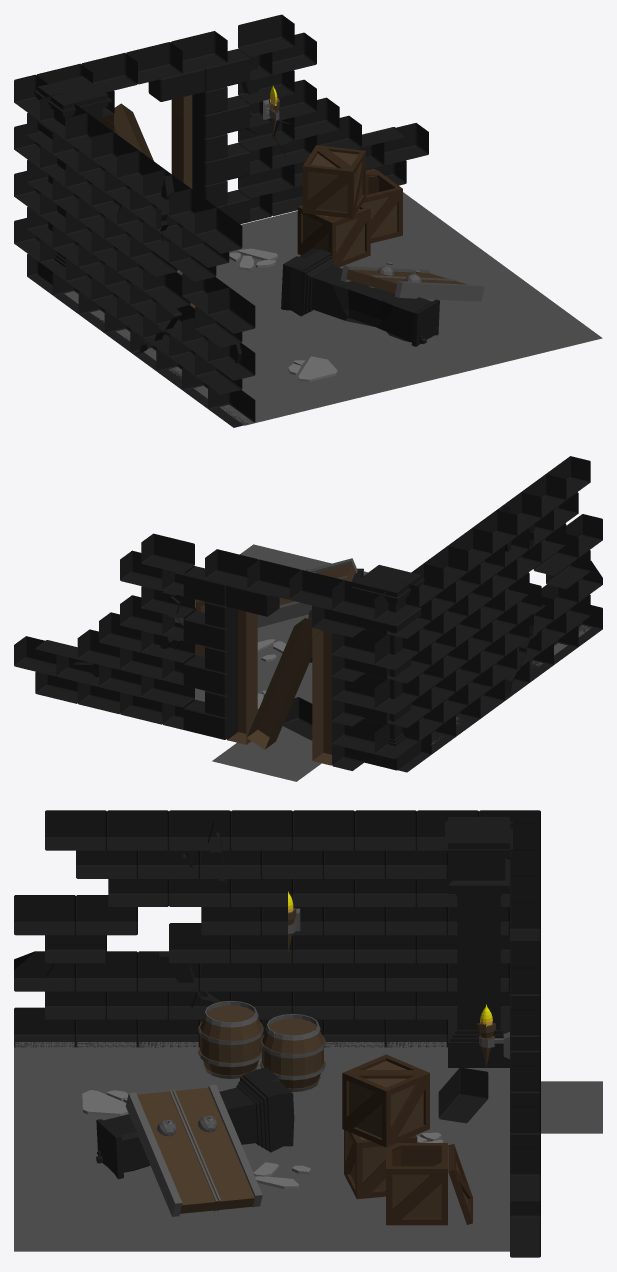
Rendered from Small_Dungeon.glb.
3 views of the same model, one above another, from view 1: azimuth 30°, elevation 25°; view 2: azimuth 150°, elevation 25°; view 3: azimuth 270°, elevation 25° (orthographic). The views are drawn at different scales.
Parts seen in each view (by area): view 1: Wall_Broken_2.004, Wall.053, Door_Wall_Broken.003, Wall_Broken_1.005, PIllar.026, Plane.447, Plane.355, Plane.450, Crate.007, Plane.434, Plane.369, Plane.433 (+13 smaller); view 2: Door_Wall_Broken.003, Wall.053, Wall_Broken_1.005, Wall_Broken_2.004, PIllar.028, Plane.327, Door.004, Plane.447, Plane.437, Plane.436; view 3: Wall_Broken_2.004, Wall.053, PIllar.028, Door.004, Wall_Broken_1.005, PIllar.026, Crate.007, Plane.434, Plane.447, Plane.372, Create Open.004, Door_Wall_Broken.003 (+19 smaller).
Boxes of the visible parts, bbox=[...] form: Wall_Broken_2.004: bbox=[117, 150, 255, 427]; Wall.053: bbox=[14, 74, 138, 351]; Door_Wall_Broken.003: bbox=[36, 31, 249, 224]; Wall_Broken_1.005: bbox=[237, 14, 428, 221]; PIllar.026: bbox=[281, 248, 439, 346]; Plane.447: bbox=[462, 300, 602, 359]; Plane.355: bbox=[242, 310, 371, 365]; Plane.450: bbox=[372, 322, 512, 381]; Crate.007: bbox=[302, 145, 365, 218]; Plane.434: bbox=[370, 224, 498, 276]; Plane.369: bbox=[283, 344, 422, 403]; Plane.433: bbox=[430, 262, 550, 322]; Door_Wall_Broken.003: bbox=[183, 549, 385, 770]; Wall.053: bbox=[374, 528, 504, 772]; Wall_Broken_1.005: bbox=[14, 533, 195, 729]; Wall_Broken_2.004: bbox=[472, 456, 602, 700]; PIllar.028: bbox=[351, 565, 424, 770]; Plane.327: bbox=[212, 730, 321, 781]; Door.004: bbox=[257, 558, 357, 627]; Plane.447: bbox=[240, 544, 331, 570]; Plane.437: bbox=[257, 641, 312, 690]; Plane.436: bbox=[257, 614, 308, 644]; Wall_Broken_2.004: bbox=[14, 810, 292, 1047]; Wall.053: bbox=[262, 810, 540, 1047]; PIllar.028: bbox=[445, 817, 512, 1067]; Door.004: bbox=[125, 1084, 262, 1216]; Wall_Broken_1.005: bbox=[510, 941, 540, 1257]; PIllar.026: bbox=[96, 1067, 294, 1179]; Crate.007: bbox=[342, 1054, 429, 1147]; Plane.434: bbox=[262, 1199, 385, 1251]; Plane.447: bbox=[14, 1199, 137, 1251]; Plane.372: bbox=[14, 1042, 137, 1094]; Create Open.004: bbox=[386, 1143, 472, 1225]; Door_Wall_Broken.003: bbox=[438, 823, 540, 1123].
Bounding box in the file's own units: 18 × 8.11 × 19.
